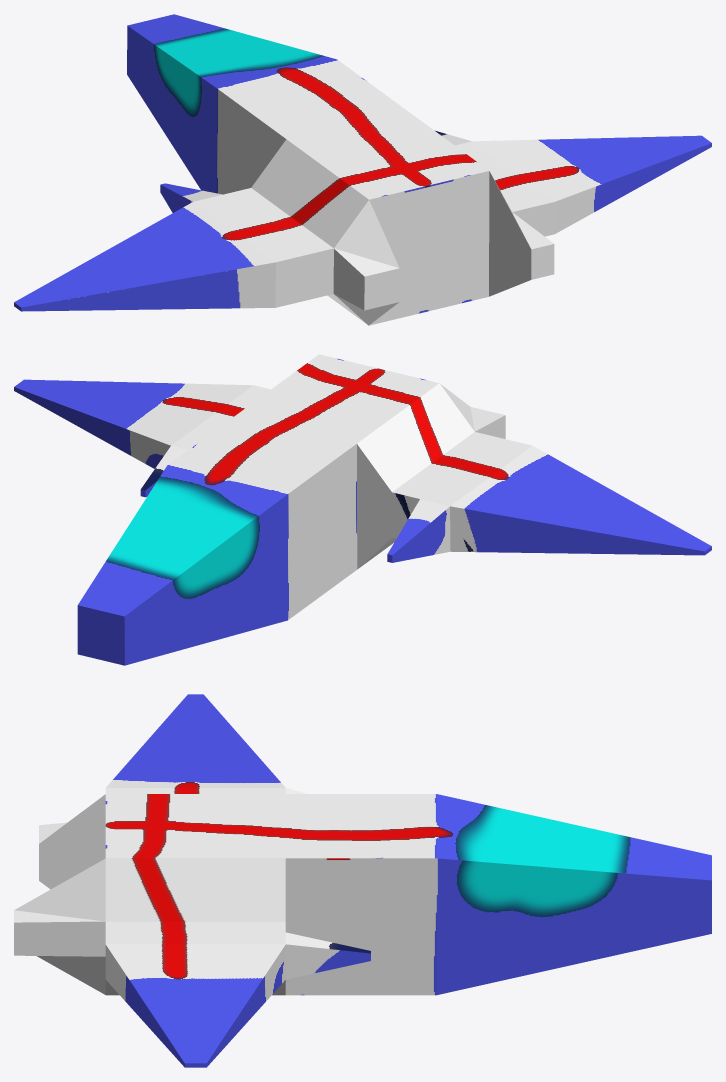
File: enemy3save.obj
The picture shows the model from 3 angles, top to bottom: view 1: azimuth 30°, elevation 25°; view 2: azimuth 150°, elevation 25°; view 3: azimuth 270°, elevation 25°; orthographic projection. The views are drawn at different scales.
Visible parts, largest first — view 1: Cube; view 2: Cube; view 3: Cube.
Boxes of the visible parts, left/top/right/bottom form: Cube: left=14, top=14, right=711, bottom=325; Cube: left=14, top=354, right=711, bottom=665; Cube: left=14, top=694, right=711, bottom=1067.
Bounding box in the file's own units: 11.46 × 2.01 × 9.23.
Materials: 1 (1 with a texture image).
